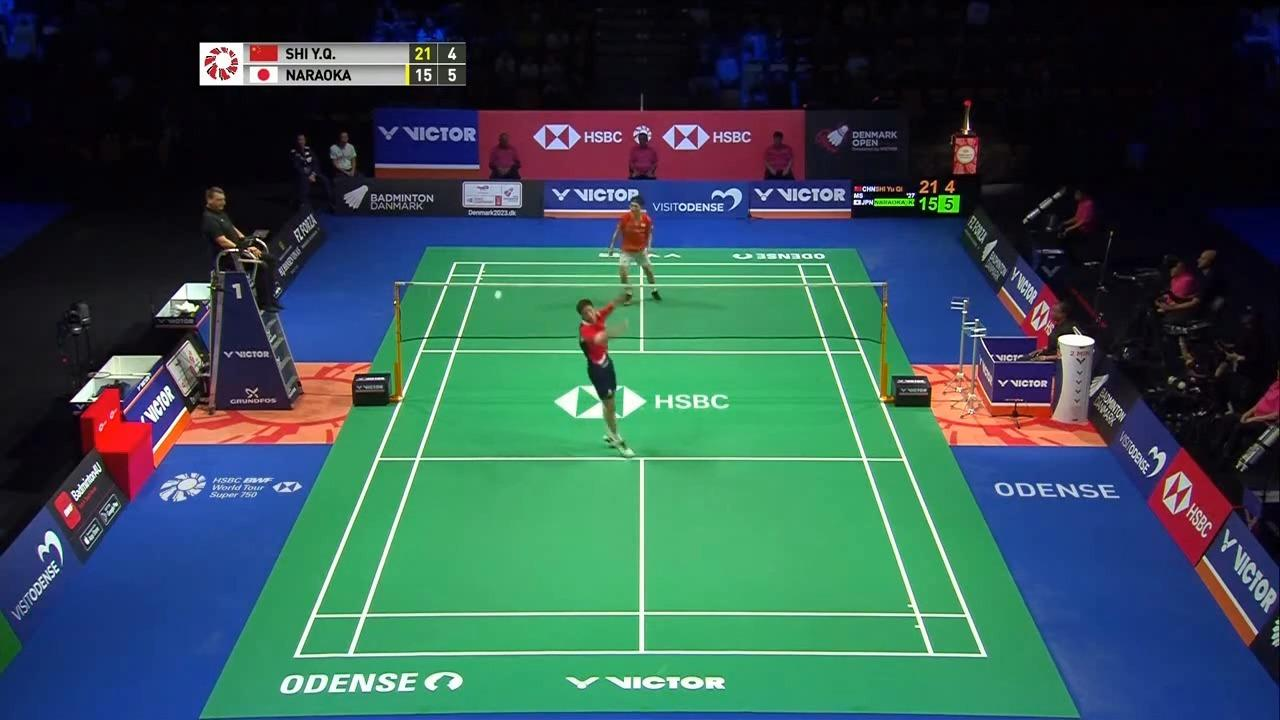shuttle: (490, 285, 505, 303)
